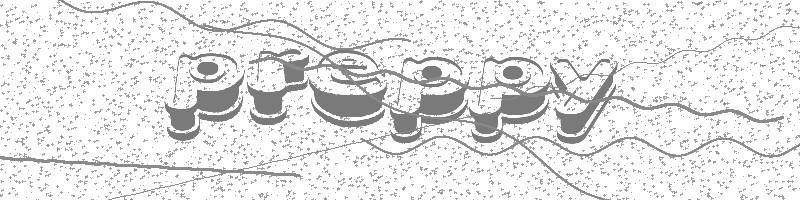e: (308, 43, 389, 129)
p: (388, 48, 468, 144), (469, 52, 549, 147), (167, 47, 246, 140)
r: (251, 45, 309, 125)
y: (548, 55, 620, 148)
